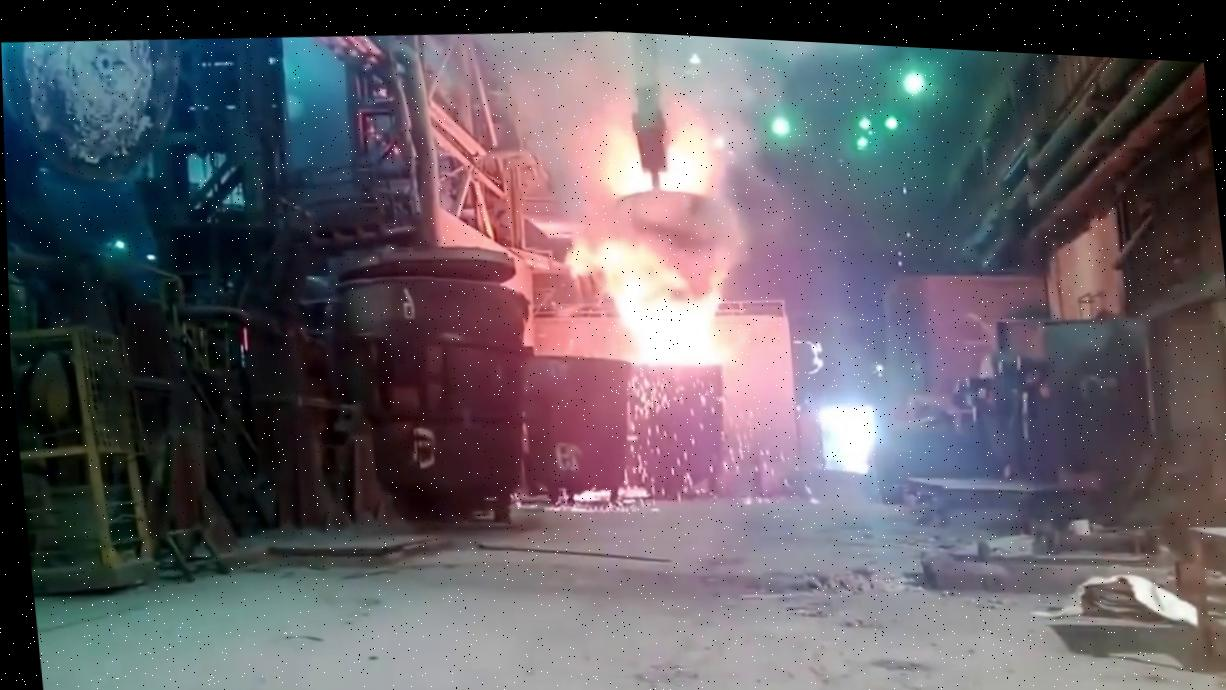fire: (540, 69, 822, 416)
